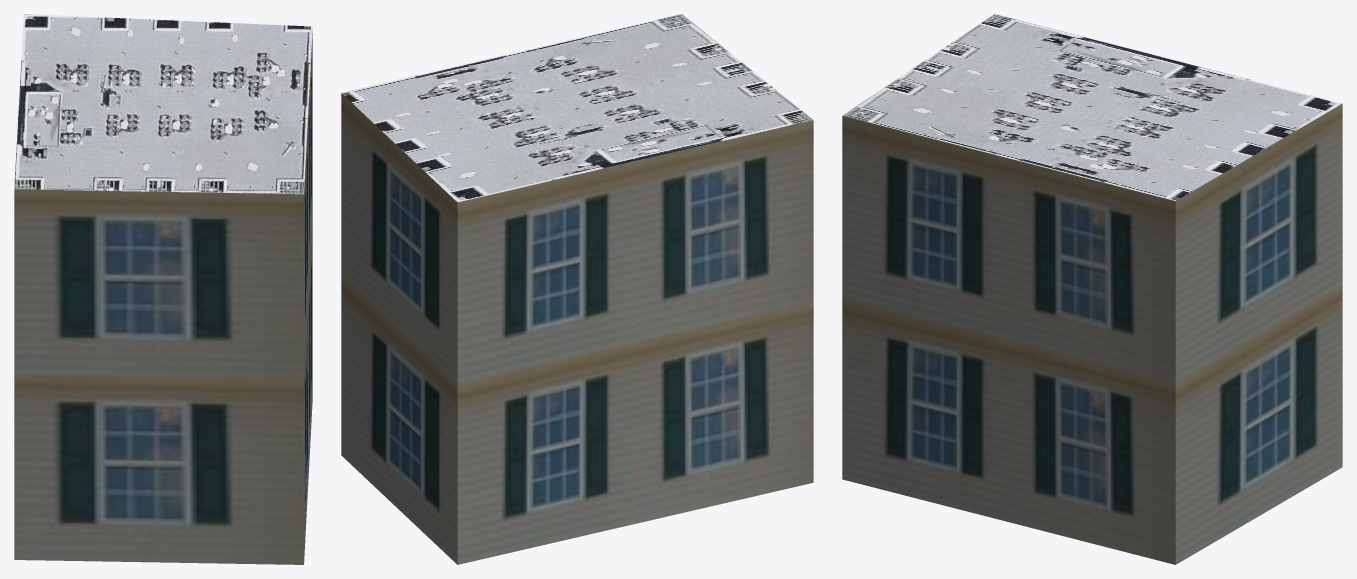
File: ResTex__560.fbx
3 renders of one model, left to right at view 1: azimuth 30°, elevation 25°; view 2: azimuth 150°, elevation 25°; view 3: azimuth 270°, elevation 25°, orthographic. The views are drawn at different scales.
Parts seen in each view (by area): view 1: CityEngineMaterial_7_m, CityEngineMaterial_15_m; view 2: CityEngineMaterial_7_m, CityEngineMaterial_15_m; view 3: CityEngineMaterial_7_m, CityEngineMaterial_15_m.
Part boxes in pixels (bbox=[...]): CityEngineMaterial_7_m: bbox=[14, 33, 312, 564]; CityEngineMaterial_15_m: bbox=[14, 14, 312, 194]; CityEngineMaterial_7_m: bbox=[341, 93, 813, 564]; CityEngineMaterial_15_m: bbox=[342, 14, 813, 202]; CityEngineMaterial_7_m: bbox=[842, 103, 1342, 564]; CityEngineMaterial_15_m: bbox=[843, 14, 1342, 200].
Size of the model in its own units: 6.62 by 6 by 7.48.
2 materials, 2 textured.
